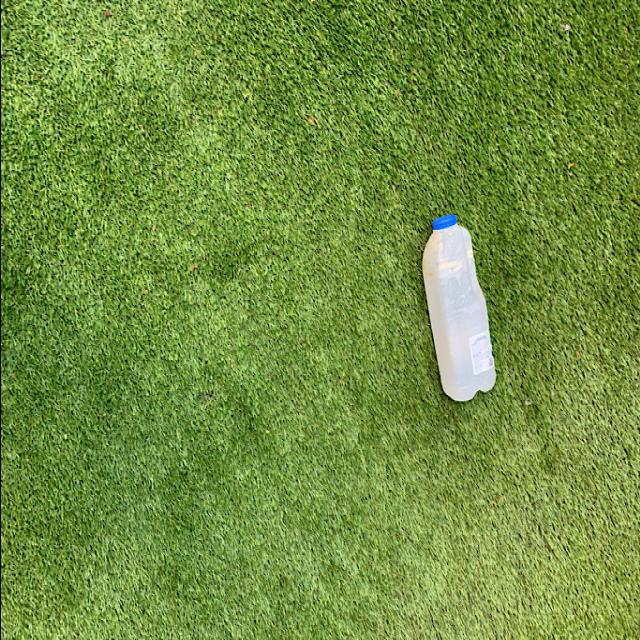litter: (416, 210, 496, 408)
